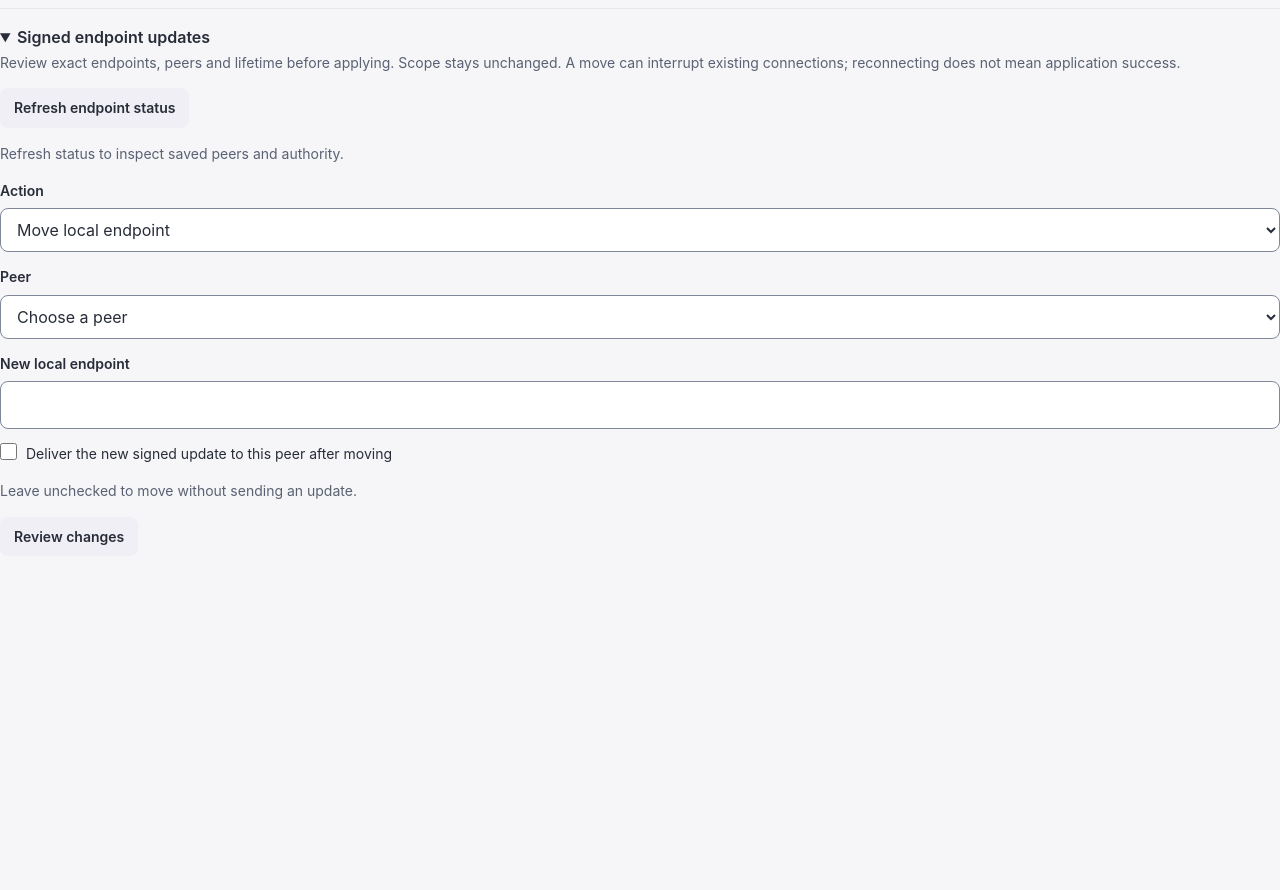
it: reviewed endpoint controls › does not retry uncertain mutation and requires a fresh status read
Type "127.0.0.2:48444" into the field labelled "New local endpoint" at (640, 405), box [0,381,1279,429]
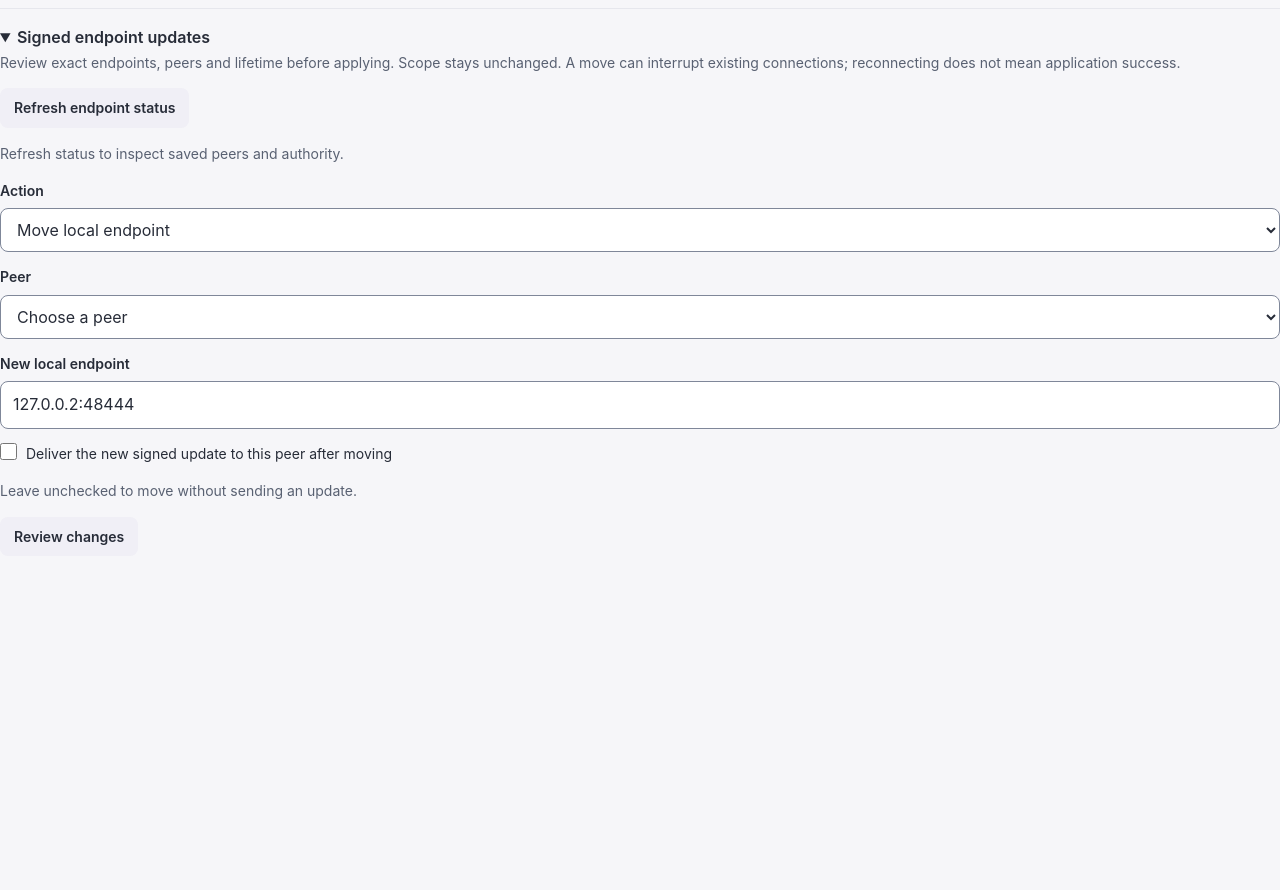
Click the button "Review changes" at (69, 536), box [0,517,138,556]
(page scrolled)
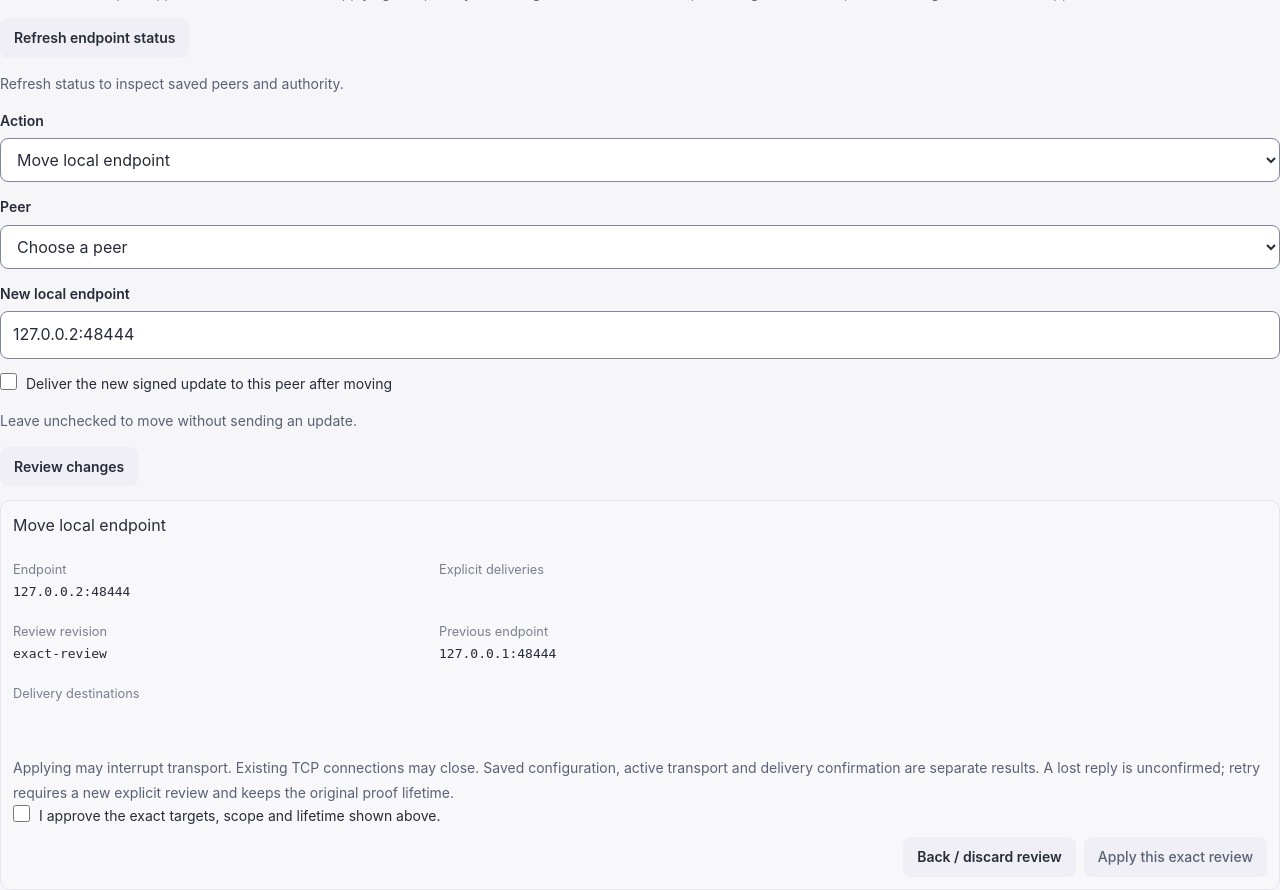
Now the element named "Review changes" is shown, box [0,500,1279,889]
Click the checkbox labelled "I approve the exact targets, scope and lifetime shown above." at (22, 814), box [13,805,30,822]
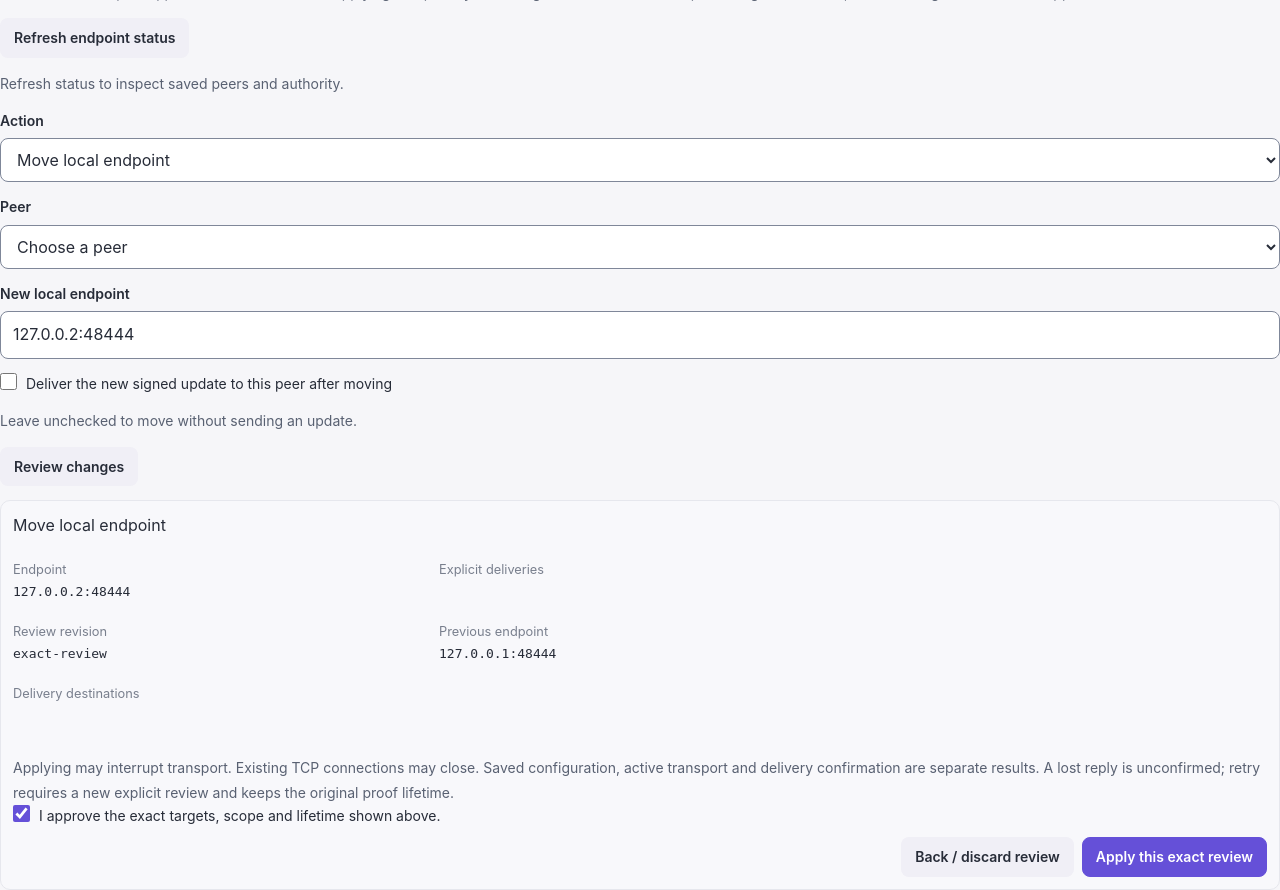
Click the button "Apply this exact review" at (1174, 857), box [1082,837,1267,877]
(page scrolled)
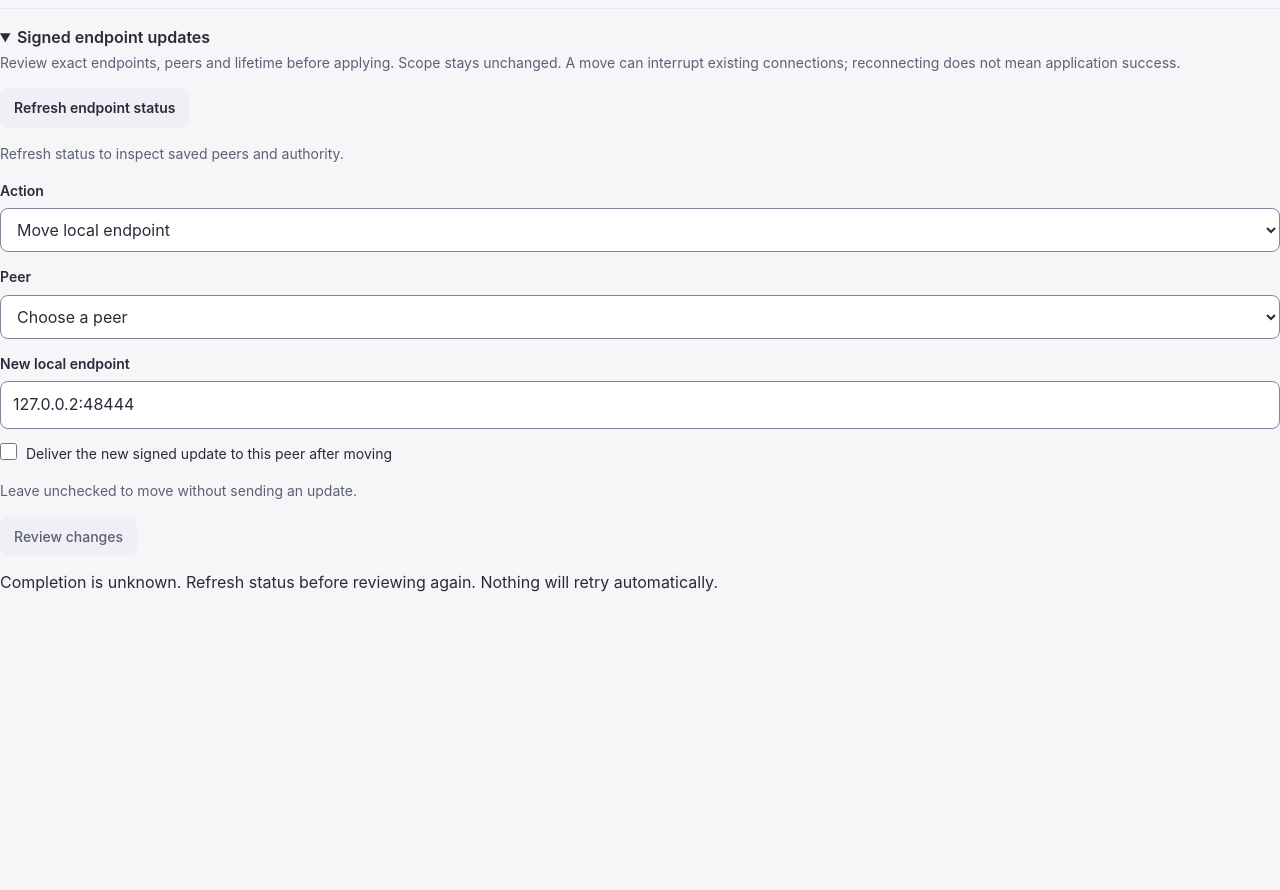
Now the text "Completion is unknown. Refresh status before reviewing again. Nothing will retry automatically." is shown, box [0,572,718,592]
Now the button "Review changes" is disabled, box [0,517,137,556]
Click the button "Refresh endpoint status" at (95, 108), box [0,88,190,128]
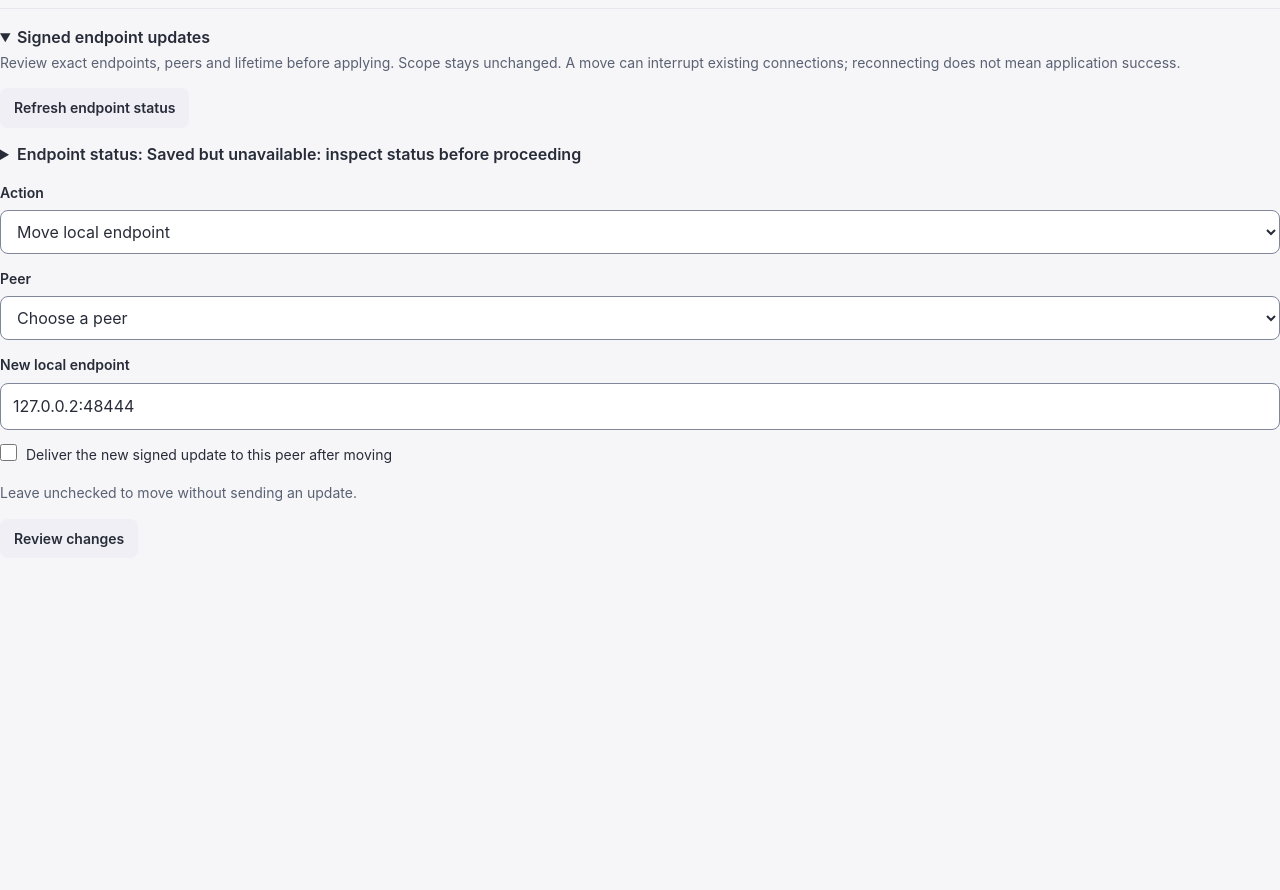
Now the button "Review changes" is enabled, box [0,518,138,558]
